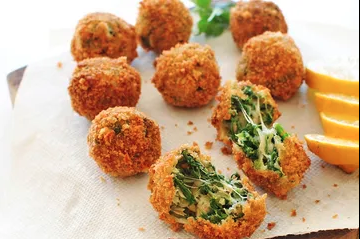salad: (70, 12, 139, 64)
